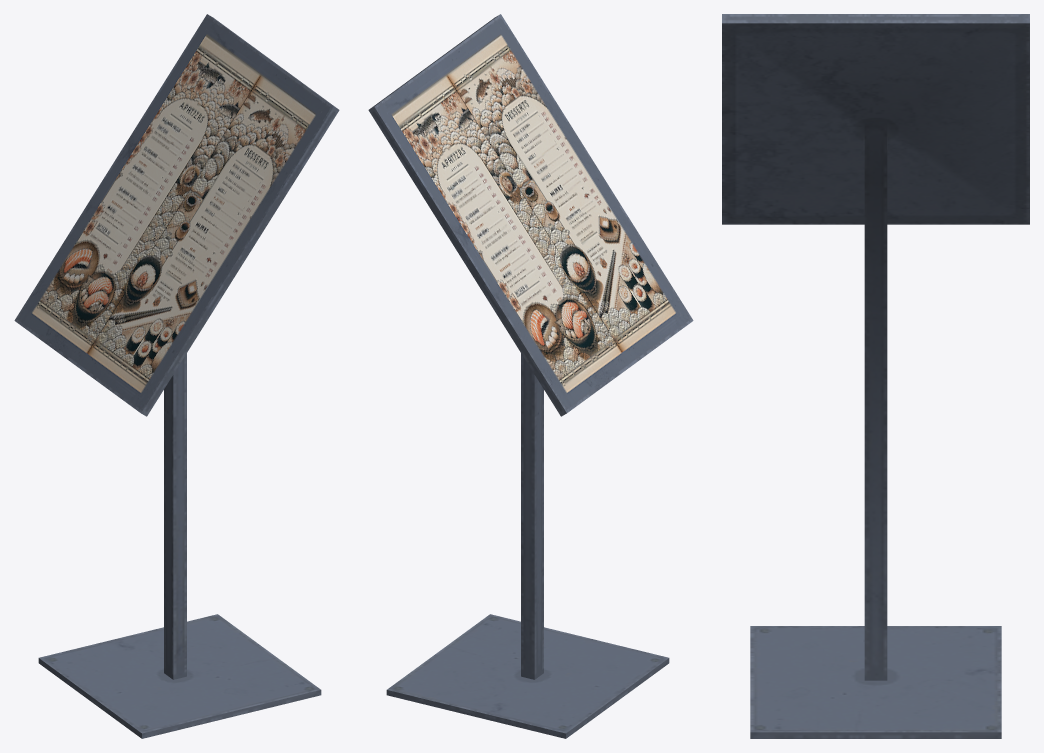
The model's file is MB_Cafe_Menu_01.fbx.
The picture shows the model from 3 angles, left to right: view 1: azimuth 30°, elevation 25°; view 2: azimuth 150°, elevation 25°; view 3: azimuth 270°, elevation 25°; orthographic projection. The views are drawn at different scales.
Visible parts, largest first — view 1: MB_Cafe_Menu_01; view 2: MB_Cafe_Menu_01; view 3: MB_Cafe_Menu_01.
Part boxes in pixels (x1=…): MB_Cafe_Menu_01: x1=14, y1=14, x2=339, y2=738; MB_Cafe_Menu_01: x1=368, y1=14, x2=693, y2=738; MB_Cafe_Menu_01: x1=722, y1=14, x2=1029, y2=738.
Size of the model in its own units: 49.91 by 143 by 55.13.
